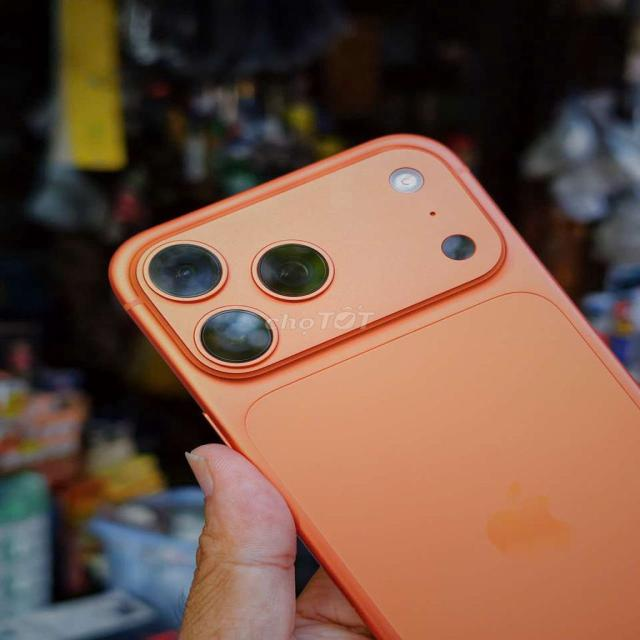gen_17: (111, 135, 639, 639)
